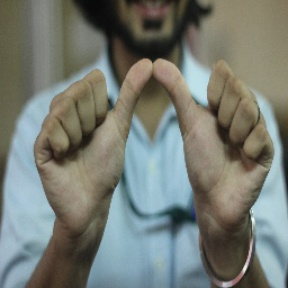A: (58, 51, 249, 195)
